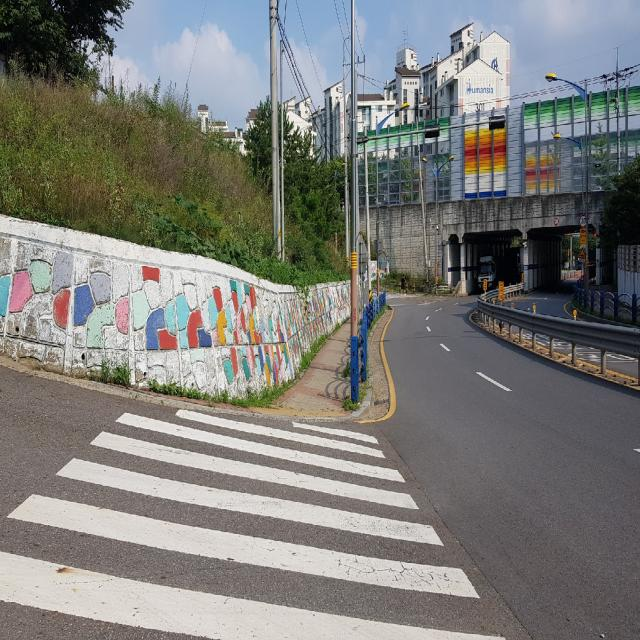횡단보도: (0, 407, 508, 640)
